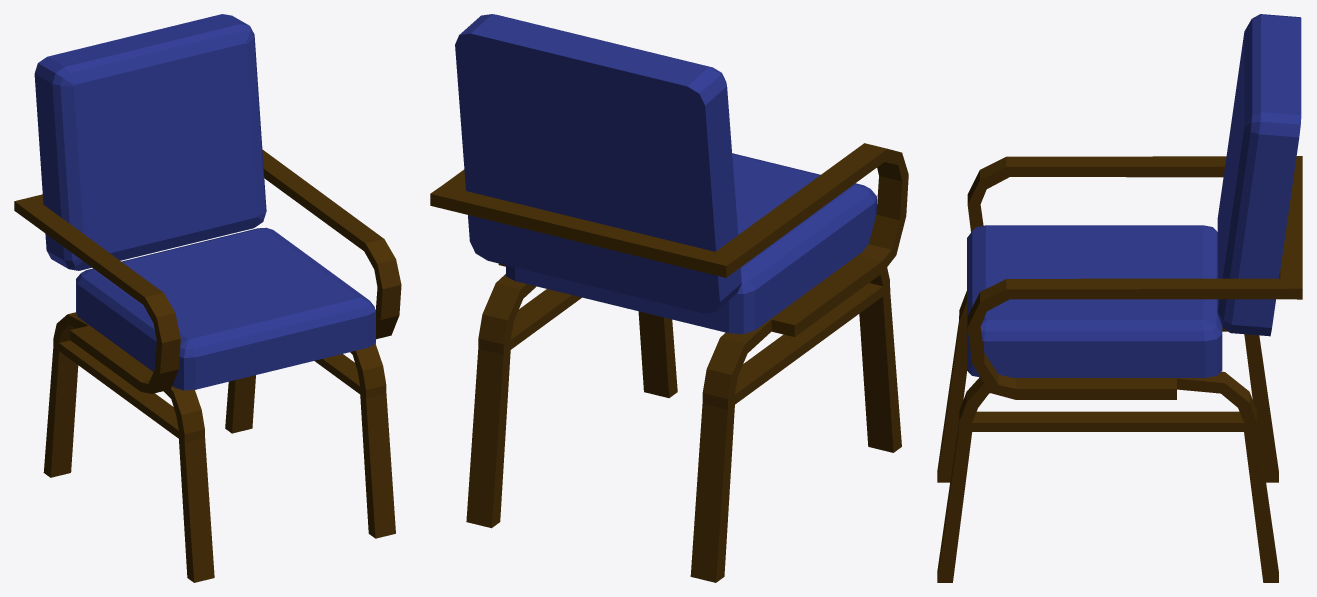
The model's file is chair.fbx.
3 views of the same model, side by side, from view 1: azimuth 30°, elevation 25°; view 2: azimuth 150°, elevation 25°; view 3: azimuth 270°, elevation 25° (orthographic). The views are drawn at different scales.
Visible parts, largest first — view 1: H_Chair_1; view 2: H_Chair_1; view 3: H_Chair_1.
Part boxes in pixels (x1=…): H_Chair_1: x1=14, y1=14, x2=401, y2=582; H_Chair_1: x1=430, y1=14, x2=908, y2=582; H_Chair_1: x1=937, y1=14, x2=1302, y2=582.
Bounding box in the file's own units: 319 × 372 × 520.
